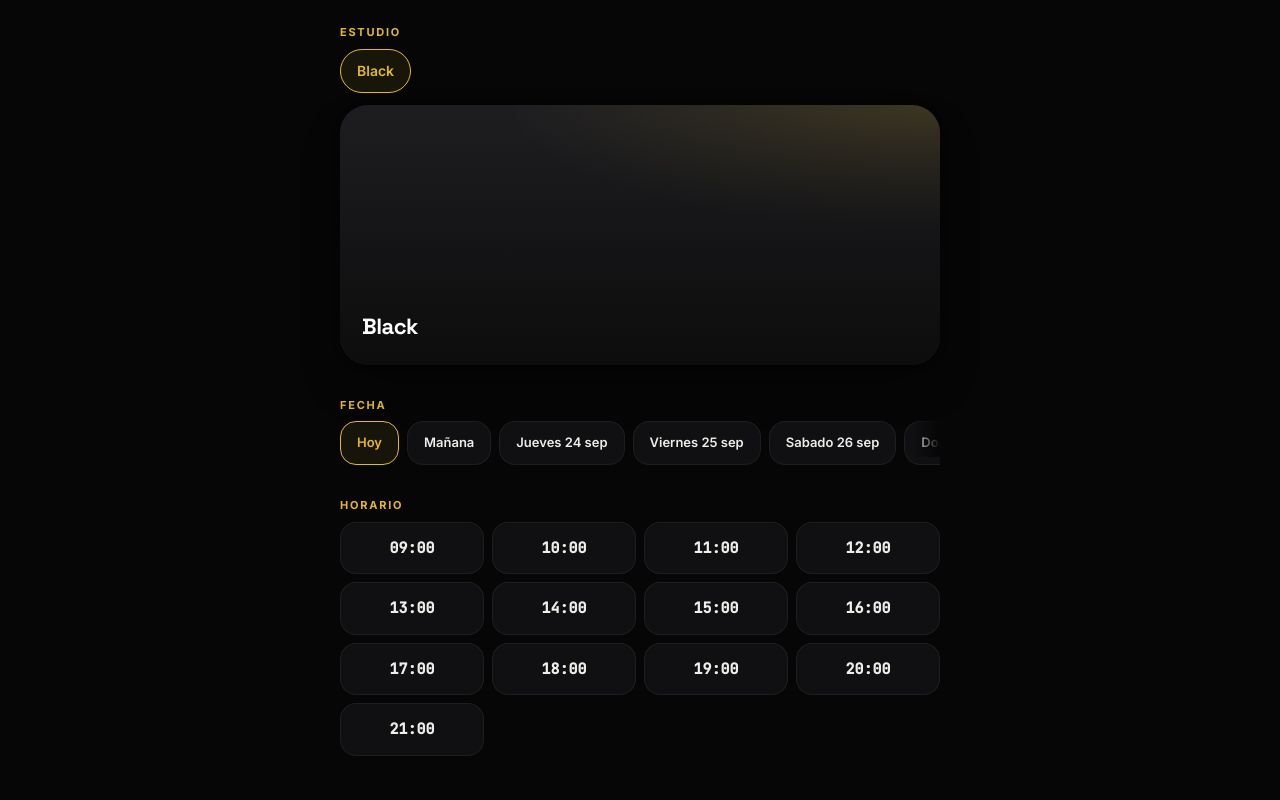
Test: Reservar · pago por hora › con un plan que SÍ tiene saldo no se ofrece nada: se abre la confirmación normal
The width and height of the screenshot is (1280, 800).
Expected: the button "09:00" is shown, 340,522 -> 484,574
Click the button "21:00": {"x": 412, "y": 729} 340,703 -> 484,756
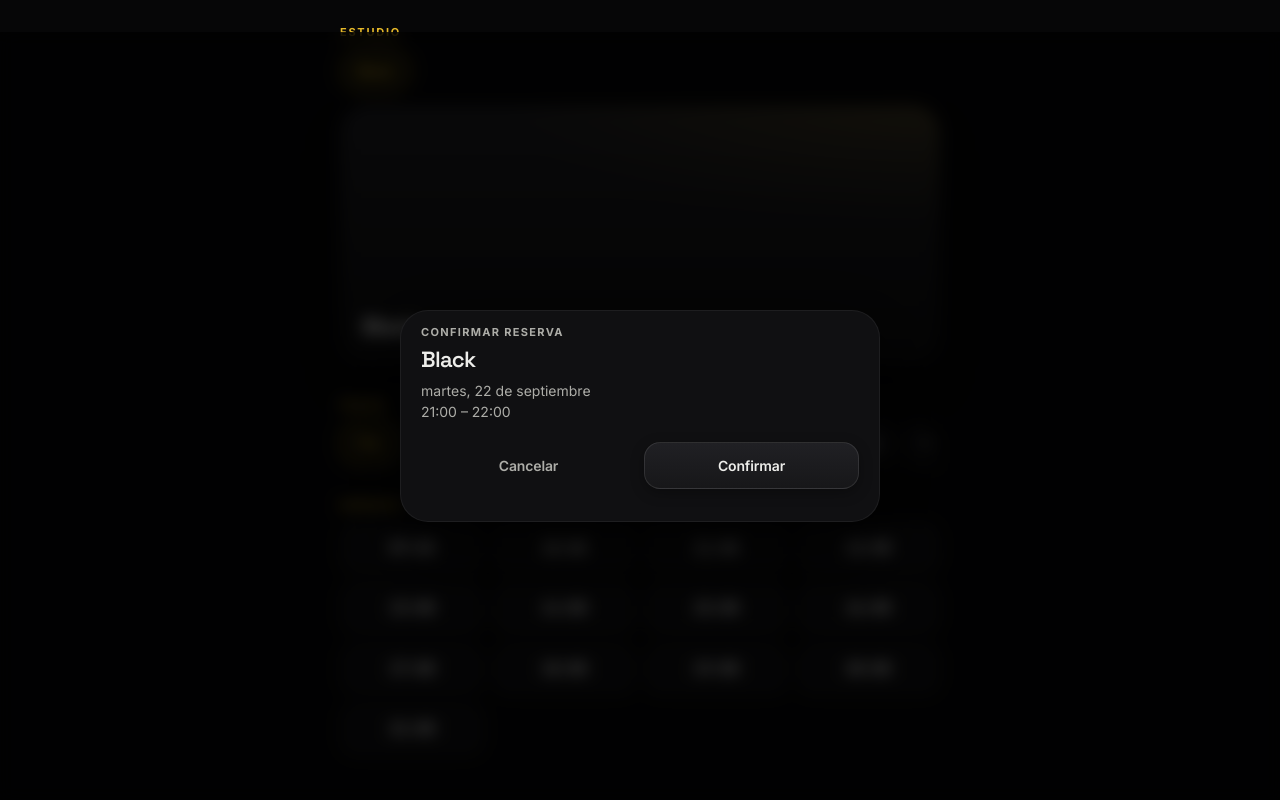
Expected: the text "CONFIRMAR RESERVA" is shown, 421,325 -> 564,339
